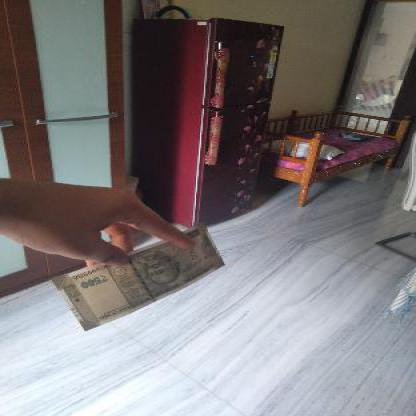New500Front: (53, 222, 223, 325)
